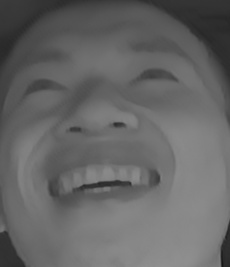eye: (127, 63, 183, 93), (21, 72, 73, 101)
mouth: (41, 149, 161, 213)
